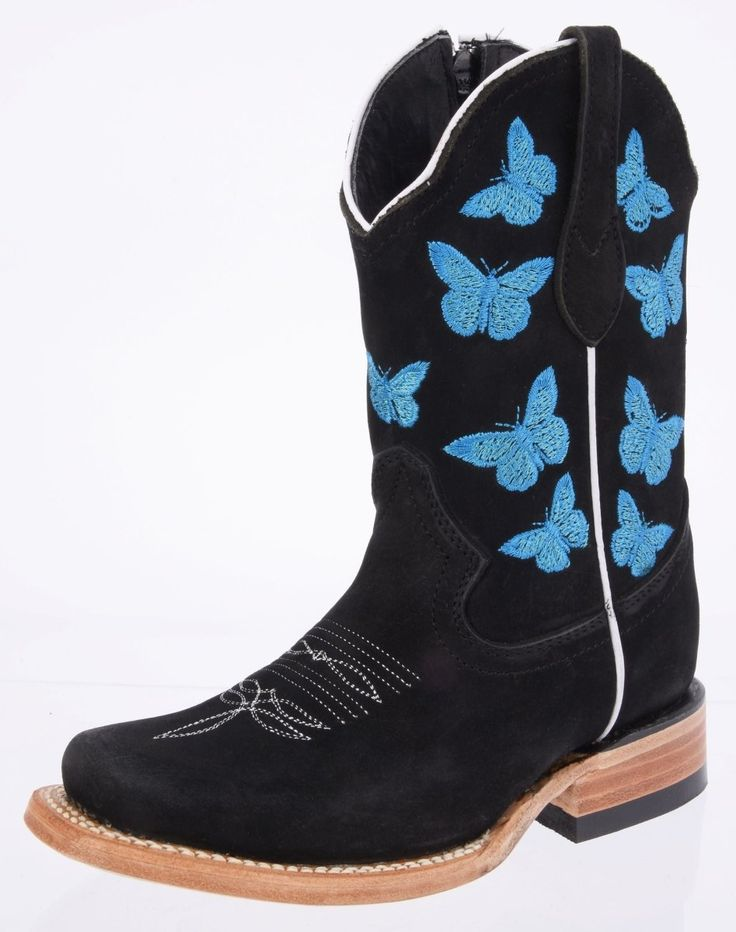gamuza: (60, 39, 702, 867)
